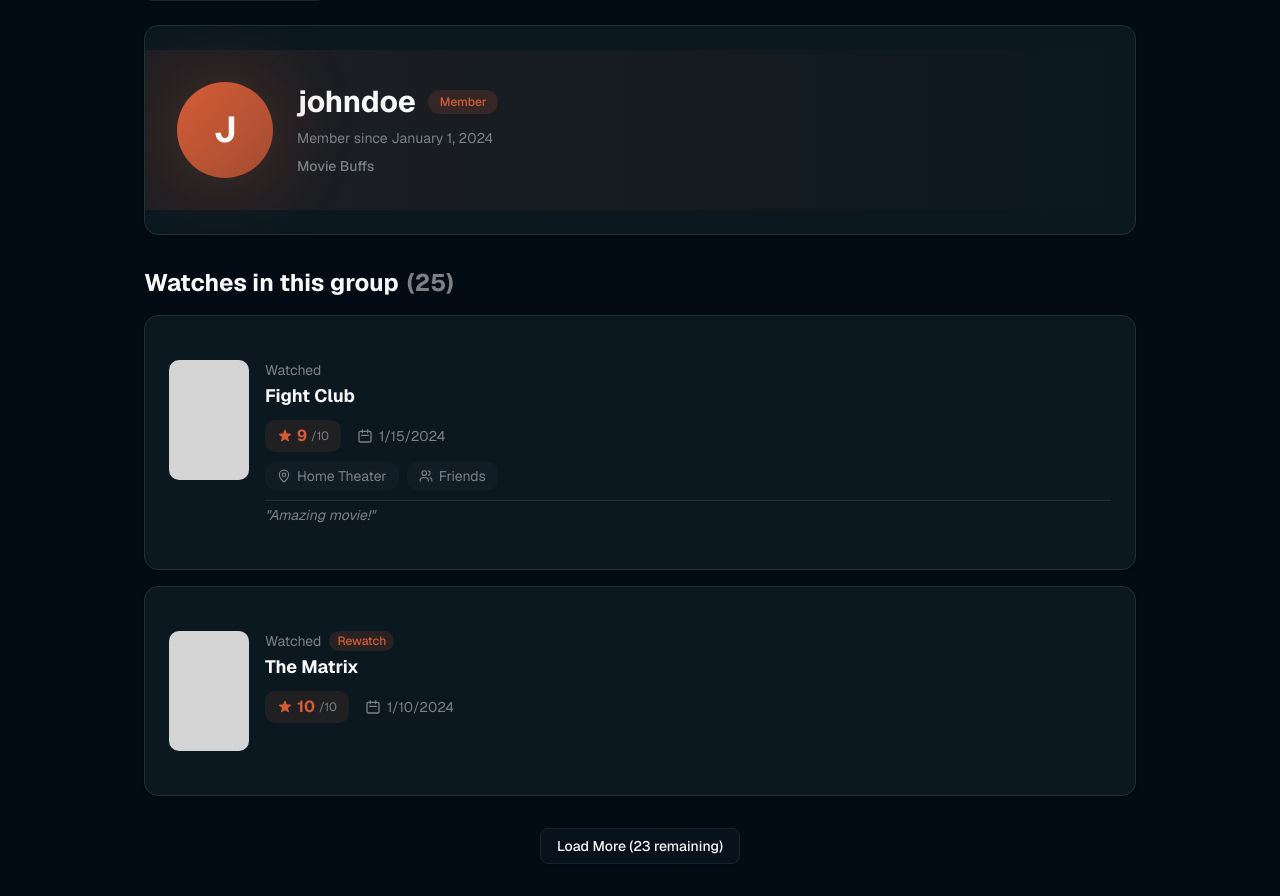
it: MemberProfilePage › should display loading state for Load More button
(page scrolled)
Click the button "Load More (23 remaining)" at (640, 846), box [540, 828, 740, 864]
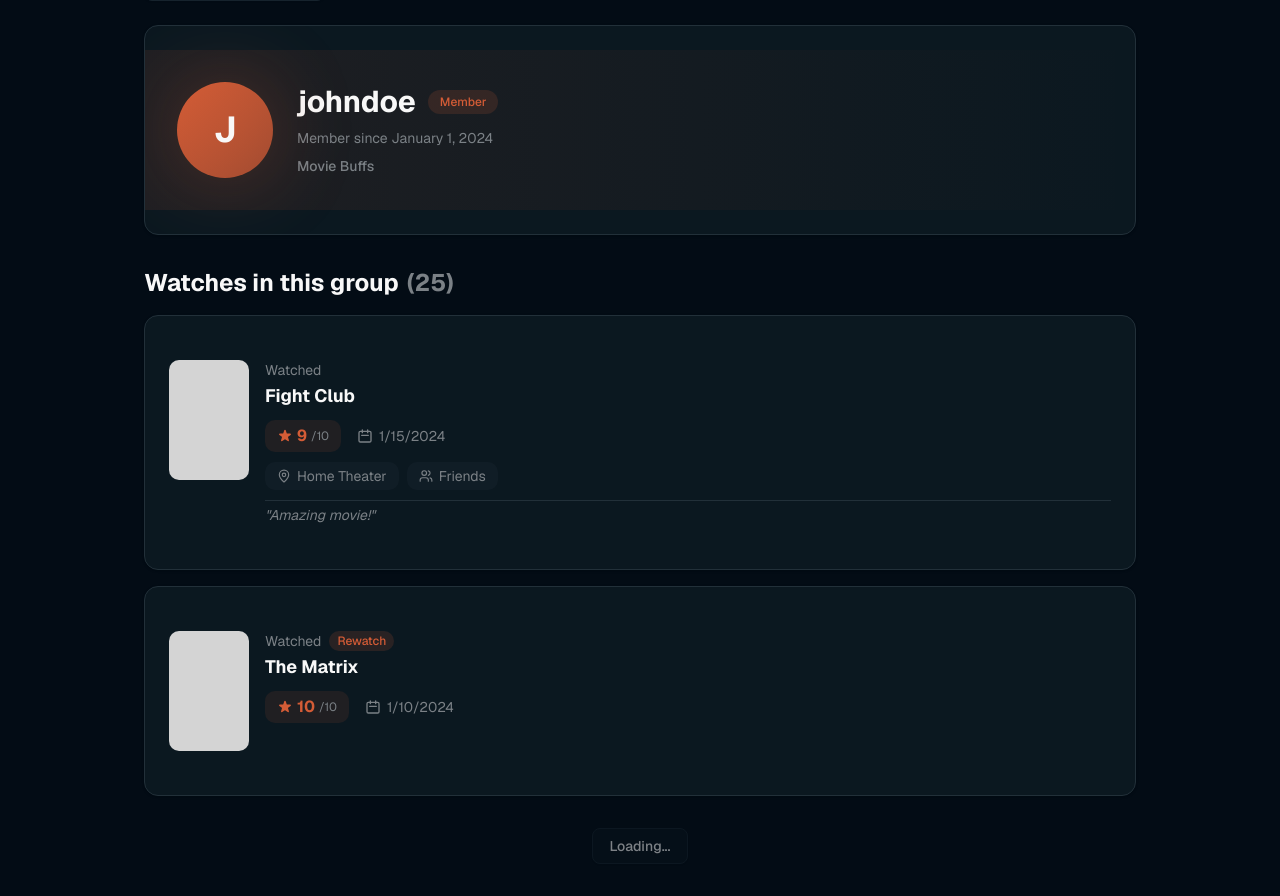
Now the button "Loading..." is shown, box [592, 828, 688, 864]
